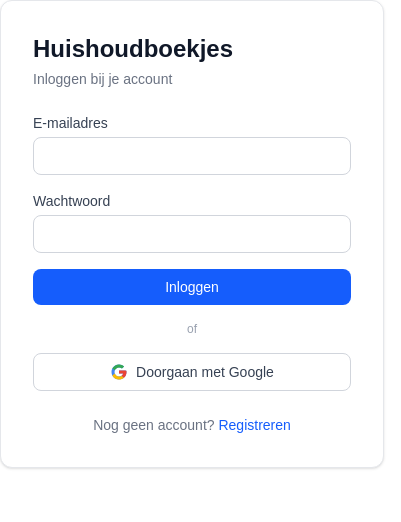
Test case: LoginForm › sign-in submission › shows a friendly error message when signInWithEmail throws a FirebaseError
This screenshot has width=401, height=522.
Type "user@example.com" into the field.
click(192, 156); type("user@example.com")  # box [33,137,351,175]
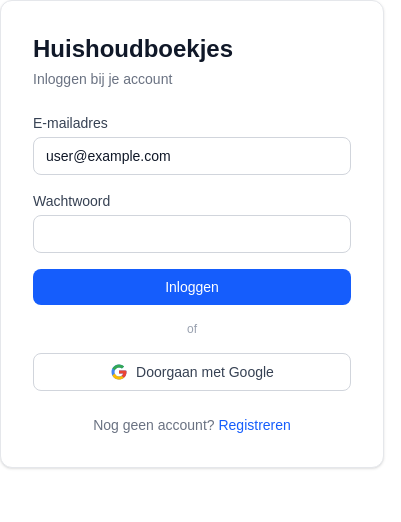
Type "wrong" into the password field.
click(192, 234); type("wrong")  # box [33,215,351,253]
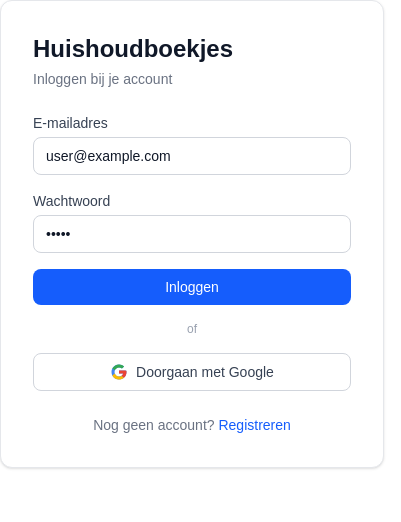
Click the button "Inloggen".
click(192, 287)  # box [33,269,351,305]
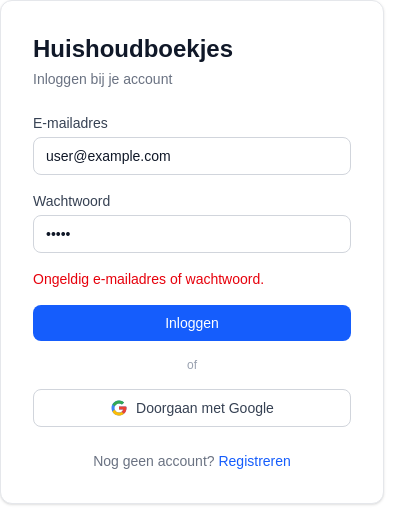
Now the text "Ongeldig e-mailadres of wachtwoord." is shown, box [33,271,264,287]
